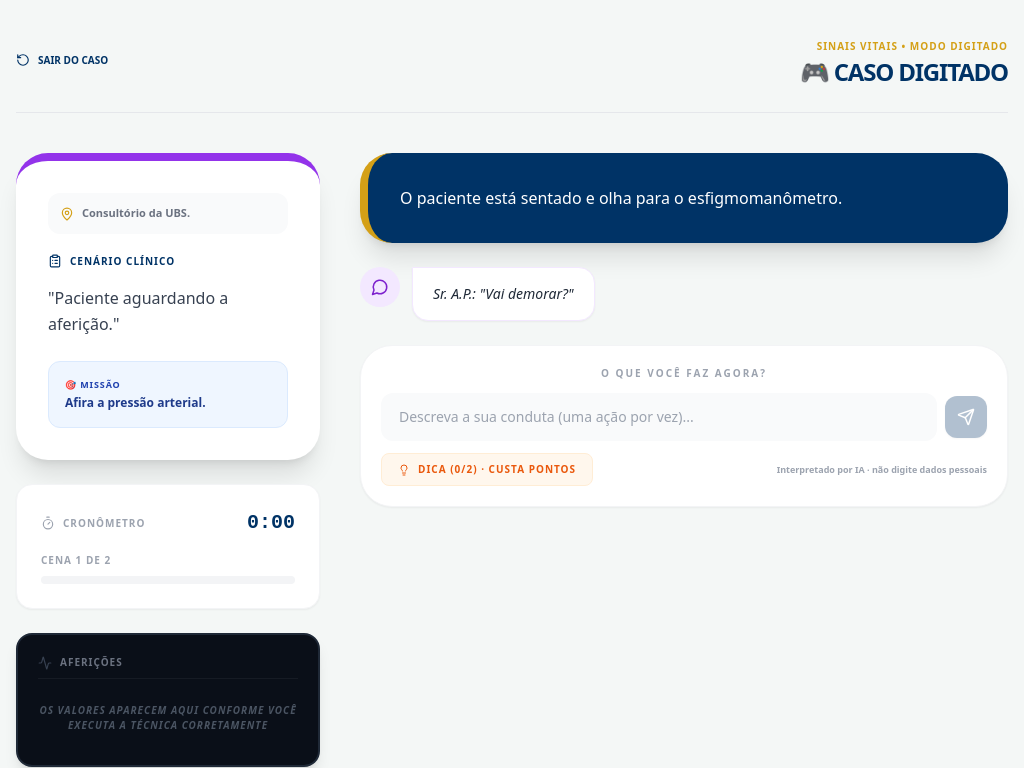
Test: GuidedRpgView — modo digitado › "não entendi": orienta, não dá consequência e na 2ª vez sugere a dica
Type "hmm" into the field at (659, 417), box [381,393,937,441]
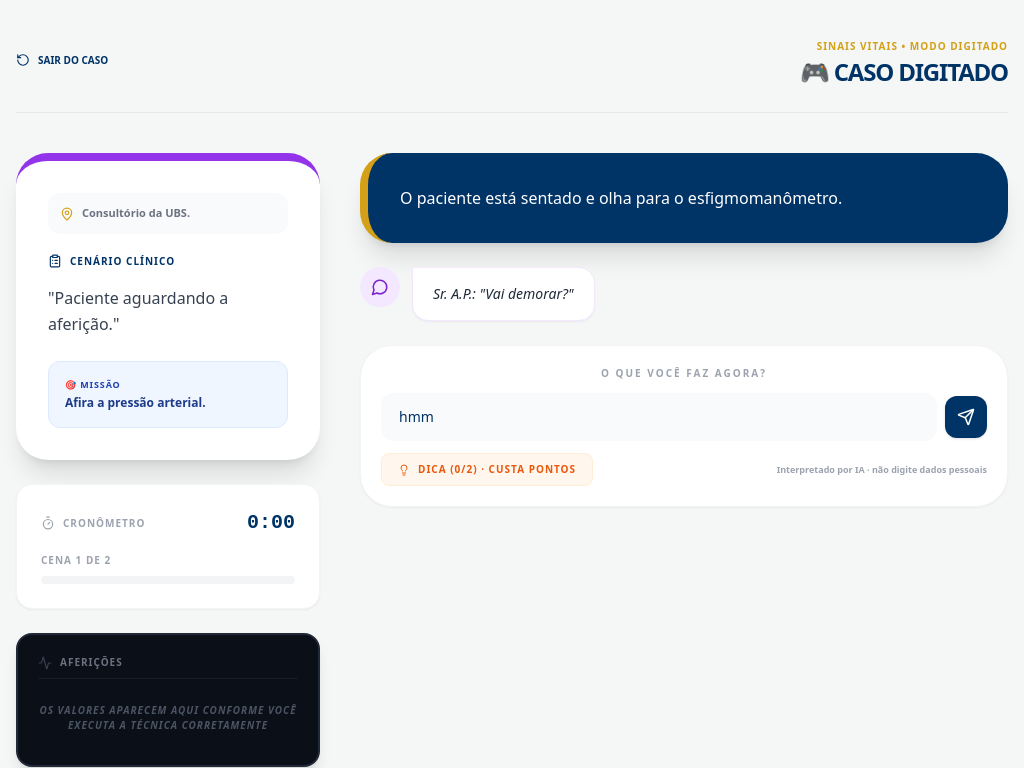
Click the button named "Enviar conduta" at (966, 417), box [945,396,987,438]
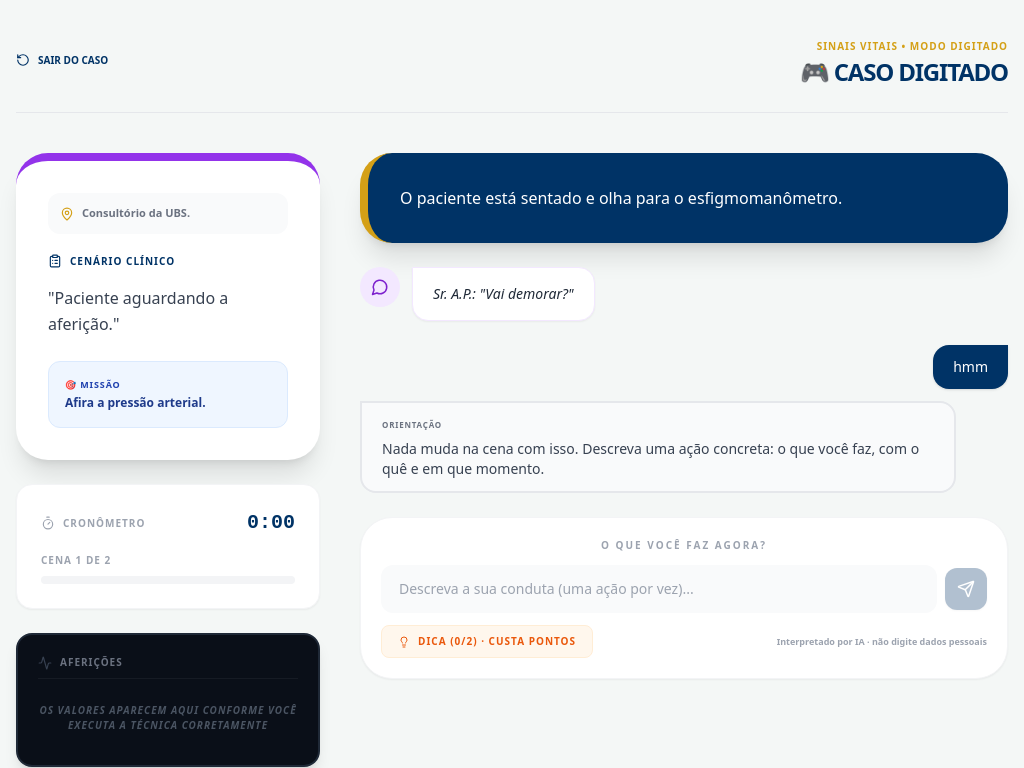
Check: the text "Nada muda na cena com isso" is shown, box [382,439,919,478]
Type "sei lá" into the field at (659, 589), box [381,565,937,613]
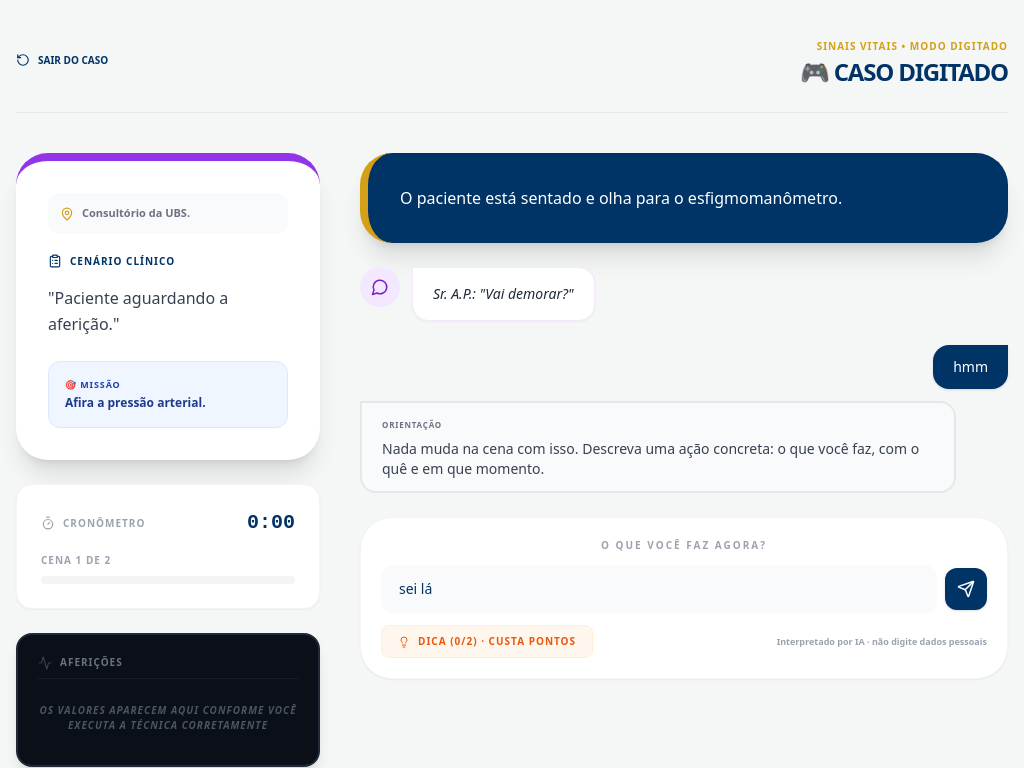
Click the button named "Enviar conduta" at (966, 589), box [945,568,987,610]
(page scrolled)
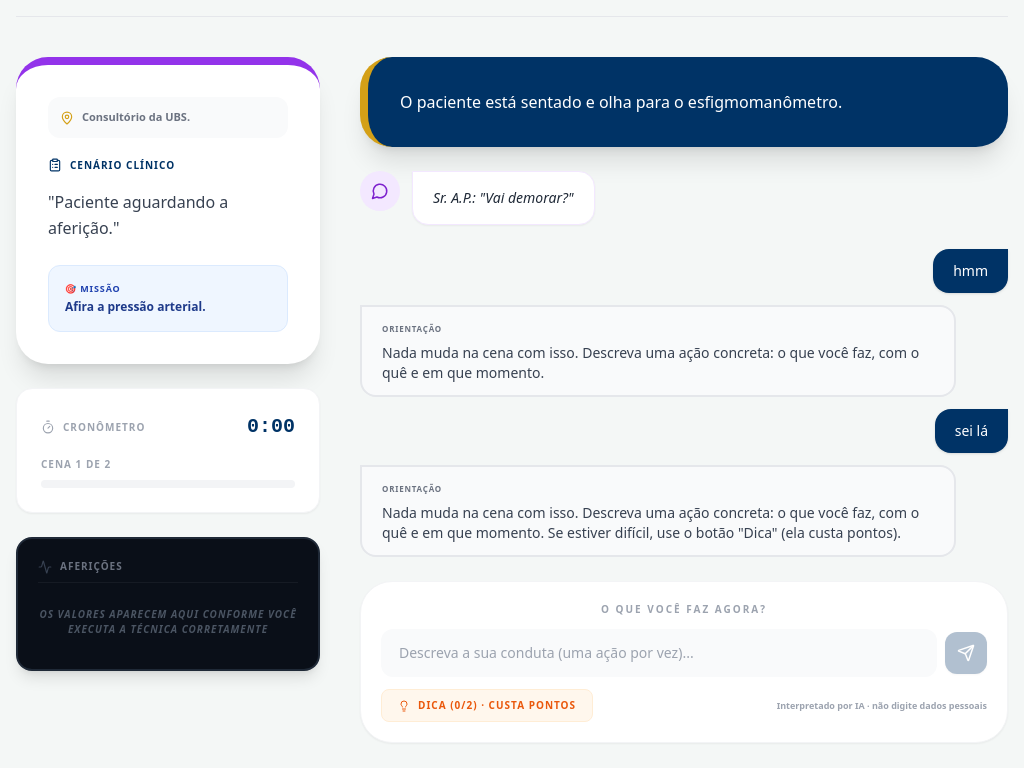
Check: the text "Nada muda na cena com isso" is shown 2 times, box [360,305,956,397]; [360,465,956,557]
Check: the text "botão \"Dica\"" is shown, box [382,503,919,542]
